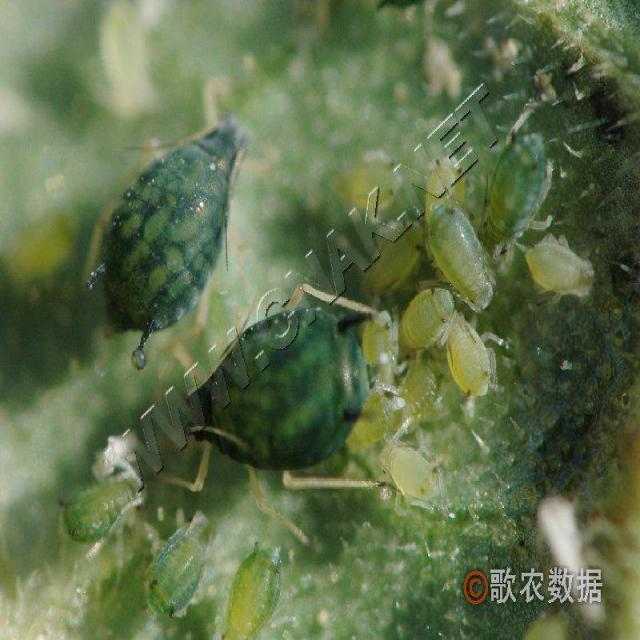Aphids: (186, 303, 405, 554), (68, 75, 262, 343), (476, 118, 553, 268), (137, 500, 220, 628), (423, 194, 504, 318), (47, 466, 150, 552), (520, 230, 604, 310), (431, 316, 503, 405)
